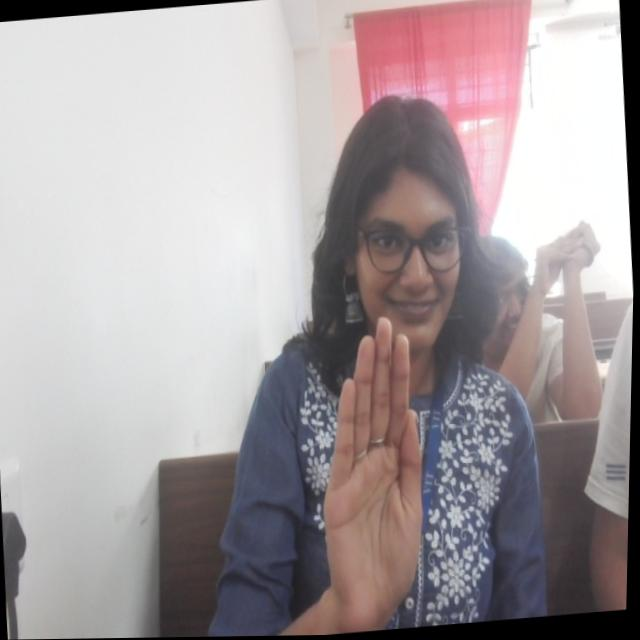hello: (308, 313, 438, 633)
